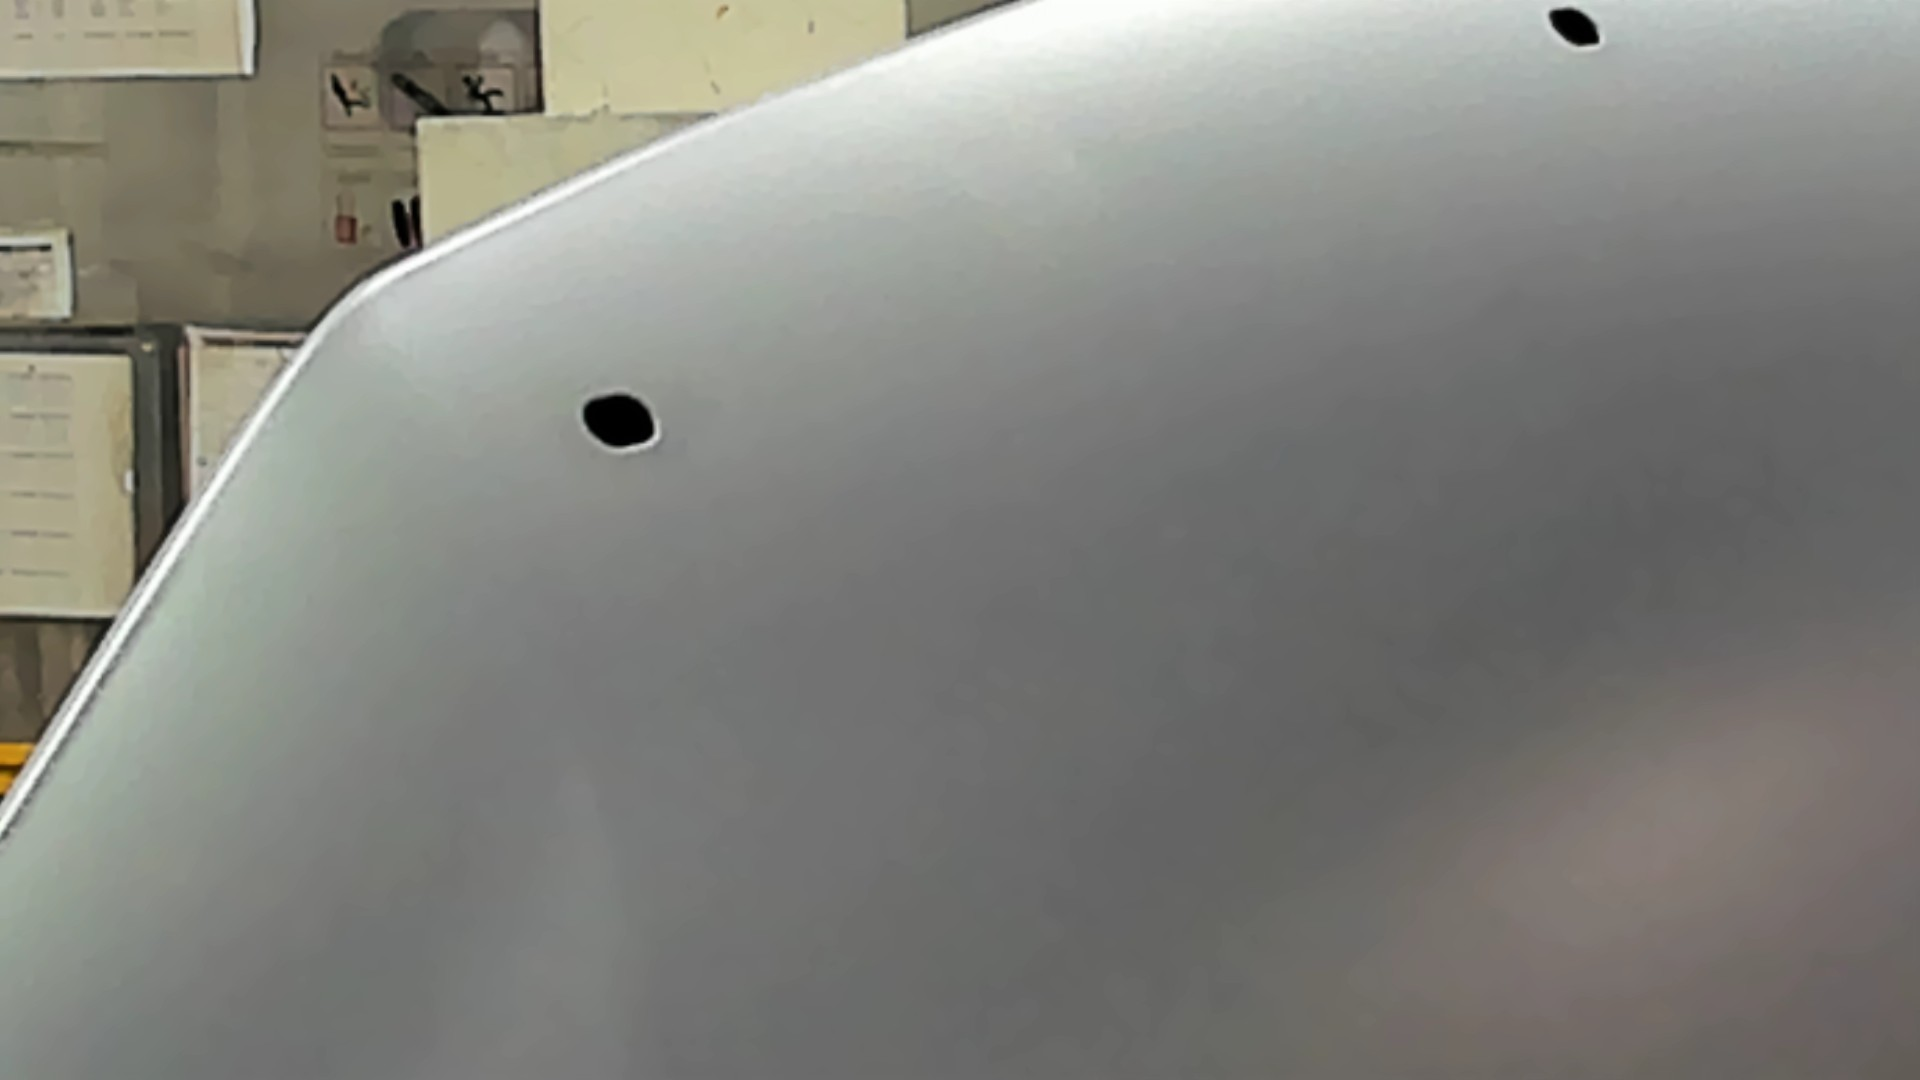amorfo: (579, 388, 666, 454), (1543, 5, 1607, 55)
